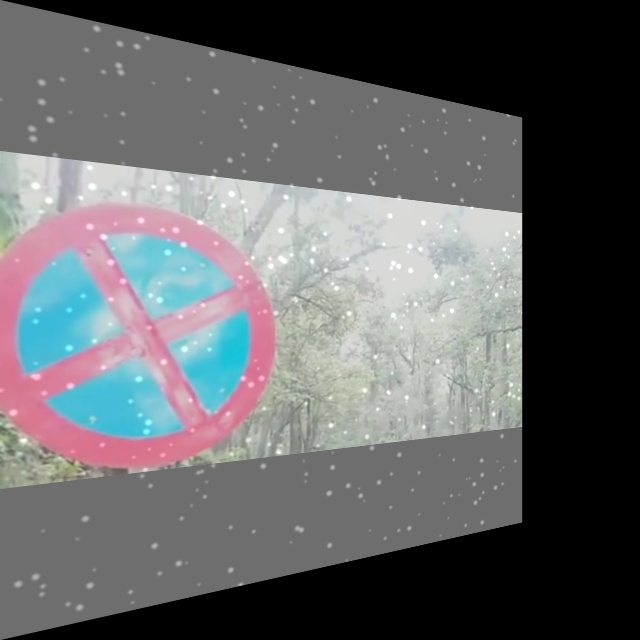No_Stopping_or_Standing: (16, 212, 266, 452)
